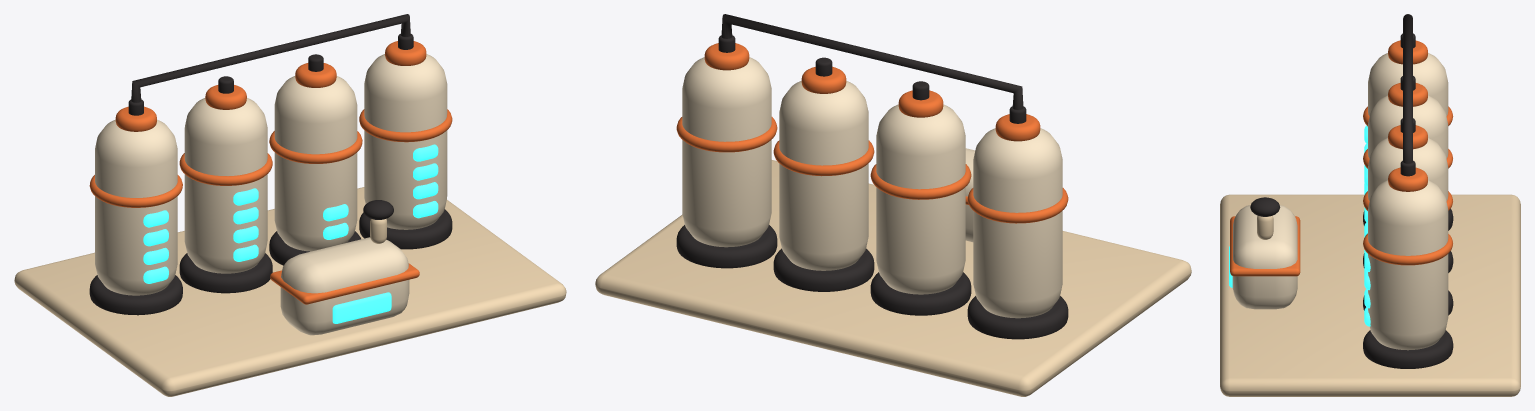
The model's file is batteries.glb.
3 renders of one model, left to right at view 1: azimuth 30°, elevation 25°; view 2: azimuth 150°, elevation 25°; view 3: azimuth 270°, elevation 25°, orthographic. The views are drawn at different scales.
Visible parts, largest first — view 1: Cube, Cylinder.009, Cylinder.005, Cylinder.001, Cylinder.013, Cube.015, pipe, Cylinder, Cylinder.004, Cylinder.012, Cube.016, Cube.017 (+10 smaller); view 2: Cube, Cylinder.005, Cylinder.001, Cylinder.009, Cylinder.013, pipe, Cylinder.004, Cylinder.008, Cylinder.012, Cylinder, Torus, Torus.003 (+7 smaller); view 3: Cube, Cylinder.013, Cube.015, Cylinder.005, Cylinder.001, Cylinder.009, Cylinder.012, pipe, Cube.016, Torus.003, Cylinder.014, Cylinder.010 (+4 smaller).
Part boxes in pixels (x1,y1,x2,y2): Cube: (14,187,566,396); Cylinder.009: (274,76,357,251); Cylinder.005: (184,98,267,273); Cylinder.001: (95,119,177,295); Cylinder.013: (364,54,447,229); Cube.015: (280,237,409,335); pipe: (131,14,410,102); Cylinder: (89,275,182,315); Cylinder.004: (179,253,272,293); Cylinder.012: (359,209,452,249); Cube.016: (270,263,419,304); Cube.017: (332,292,391,323); Cube: (595,160,1191,396); Cylinder.005: (876,104,965,294); Cylinder.001: (973,128,1062,318); Cylinder.009: (779,81,868,270); Cylinder.013: (682,57,771,247); pipe: (721,14,1023,109); Cylinder.004: (870,272,971,315); Cylinder.008: (773,248,874,291); Cylinder.012: (676,225,777,268); Cylinder: (967,296,1068,339); Torus: (967,188,1068,223); Torus.003: (676,117,777,152); Cube: (1220,194,1520,396); Cylinder.013: (1368,180,1448,350); Cube.015: (1232,205,1297,309); Cylinder.005: (1368,95,1448,158); Cylinder.001: (1368,53,1448,116); Cylinder.009: (1368,137,1448,200); Cylinder.012: (1363,330,1453,368); pipe: (1403,14,1412,163); Cube.016: (1230,216,1300,276); Torus.003: (1363,233,1452,265); Cylinder.014: (1388,167,1427,191); Cylinder.010: (1388,125,1427,149).
Bounding box in the file's own units: 1.8 × 0.9942 × 1.2.
